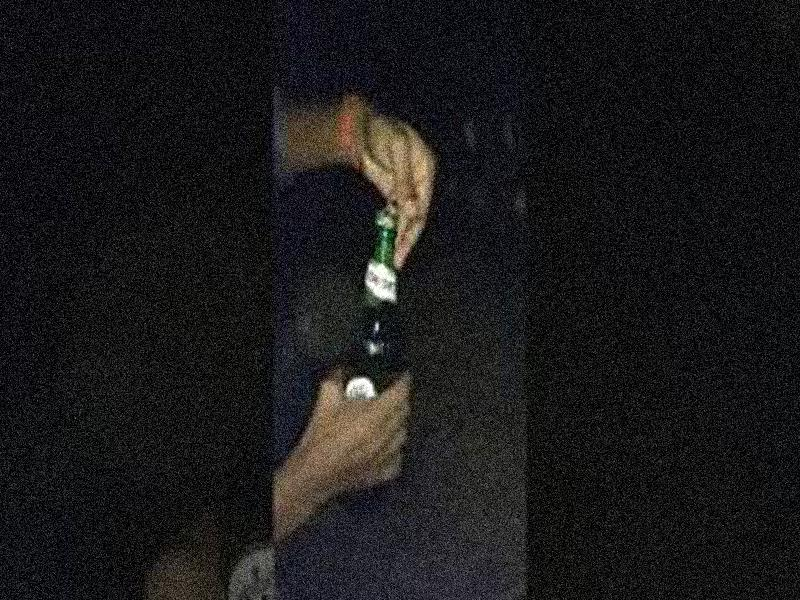Beer: (330, 211, 404, 511)
